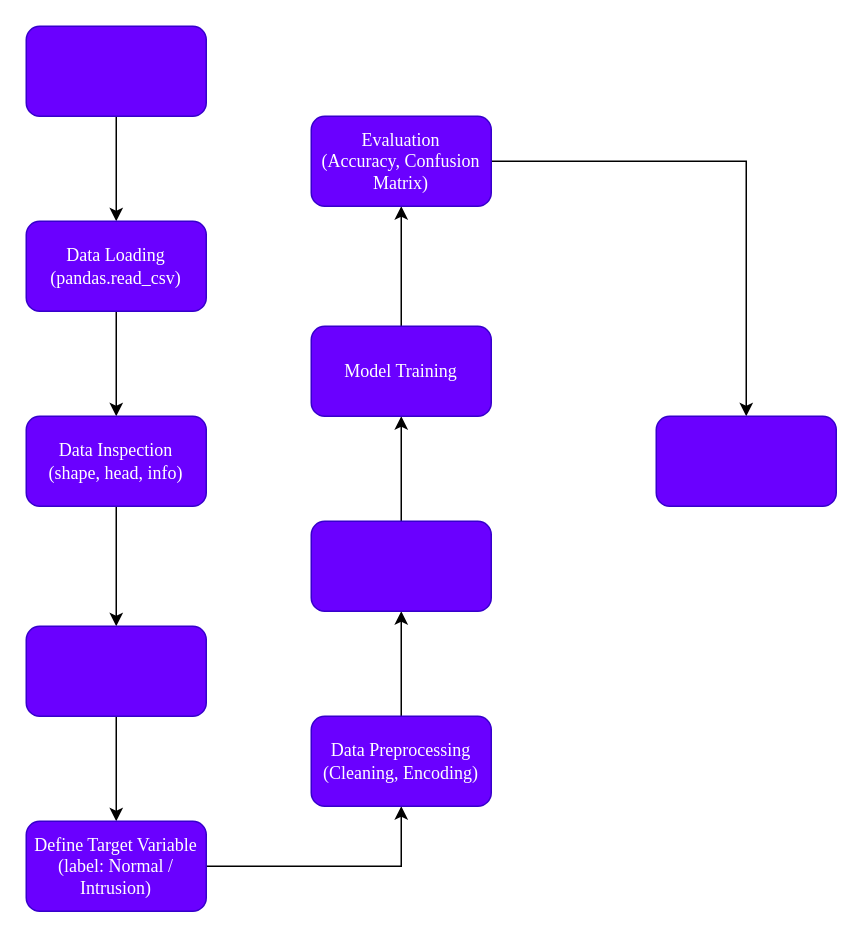
Some shapes in this 863 by 938 pixel diagram are drawn without their labels. The centre of each missing label's shape, as x and y in pixels:
Dataset Selection (Network Intrusion Detection – Kaggle): pixel 115 70
Define ML Problem (Binary Classification): pixel 115 670
Train / Test Split: pixel 400 565
